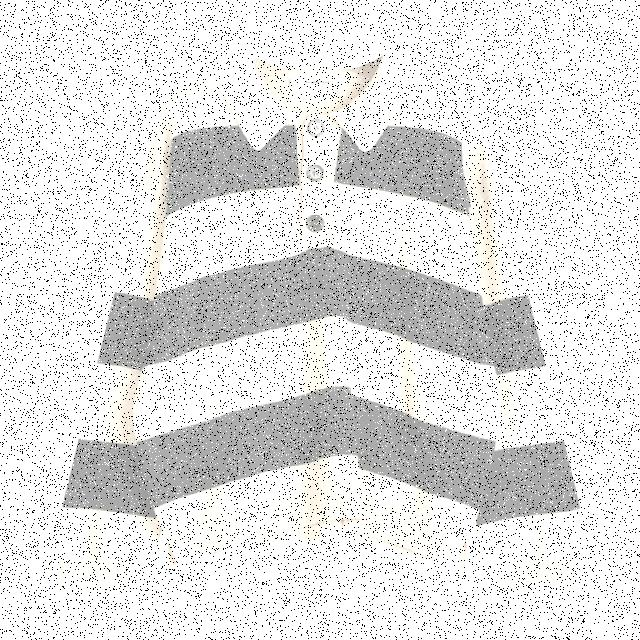Blouse_deep: (37, 34, 605, 599)
